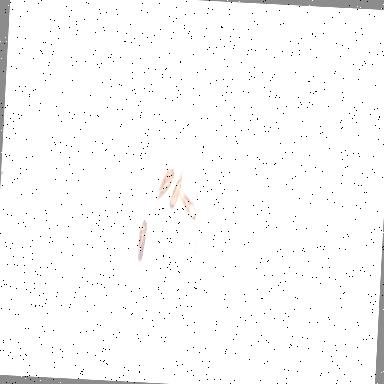pbw: (165, 156, 189, 214), (154, 162, 176, 202), (178, 189, 200, 222), (136, 219, 150, 266)
